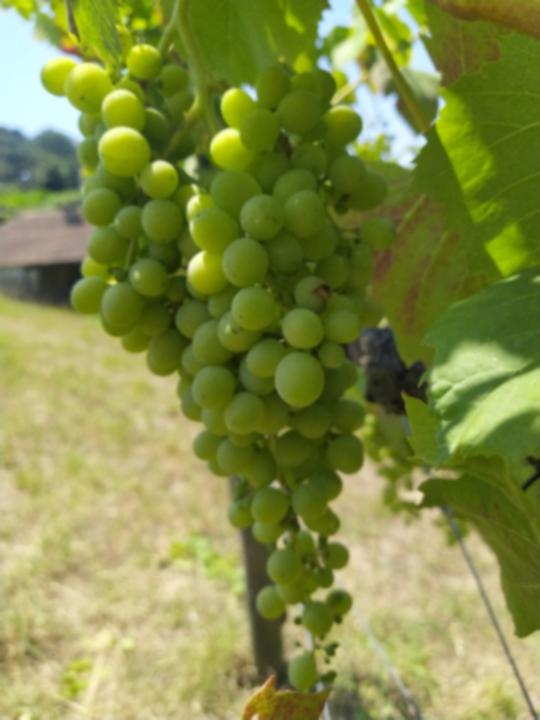grape: (36, 44, 400, 694)
